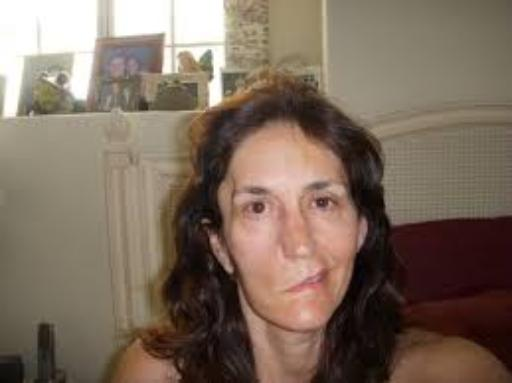left_eye: (309, 197, 341, 214)
left_lip_corner: (322, 264, 337, 277)
right_eye: (244, 201, 272, 220)
right_lip_corner: (280, 284, 302, 296)
